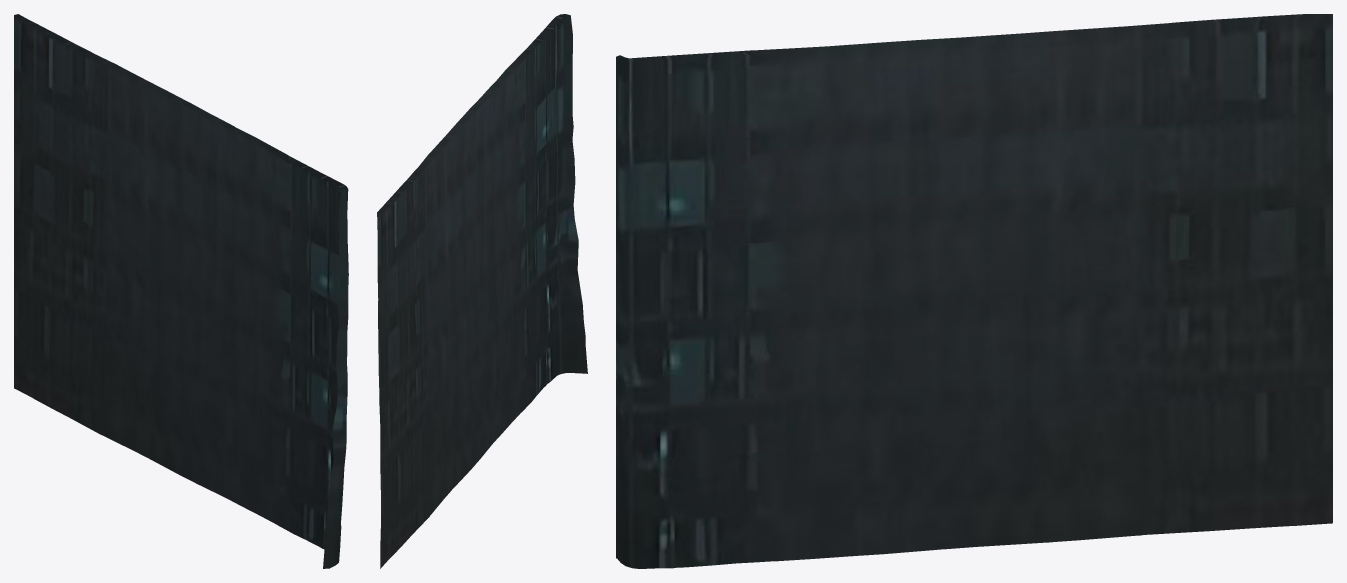
The model's file is z20-167772-405236-h1-yup-uvflip-v3-world.glb.
3 renders of one model, left to right at view 1: azimuth 30°, elevation 25°; view 2: azimuth 150°, elevation 25°; view 3: azimuth 270°, elevation 25°, orthographic. The views are drawn at different scales.
Size of the model in its own units: 4.92 by 23.76 by 30.32.
Materials: 1 (1 with a texture image).
